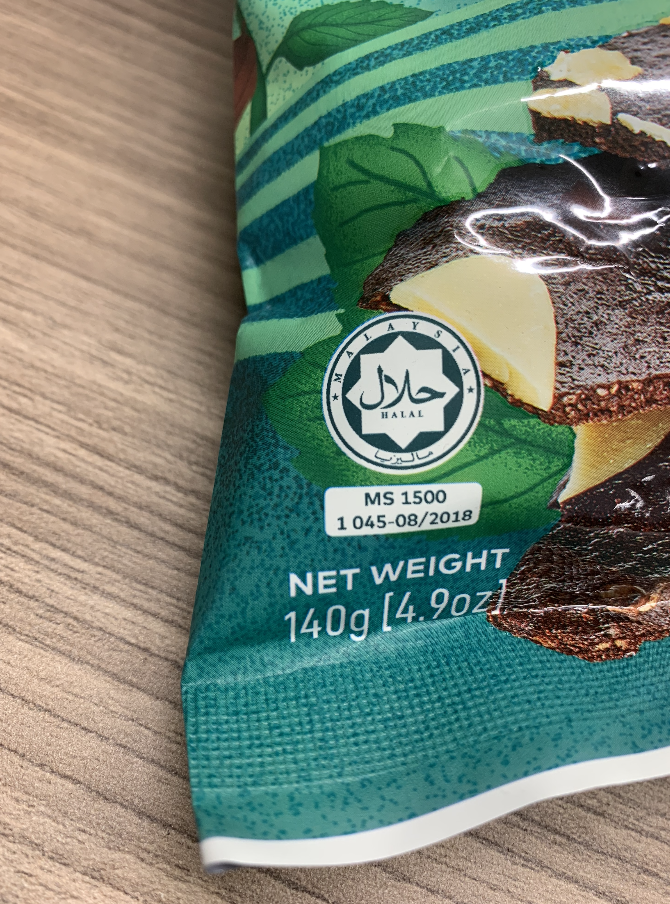halal: (347, 336, 455, 439)
